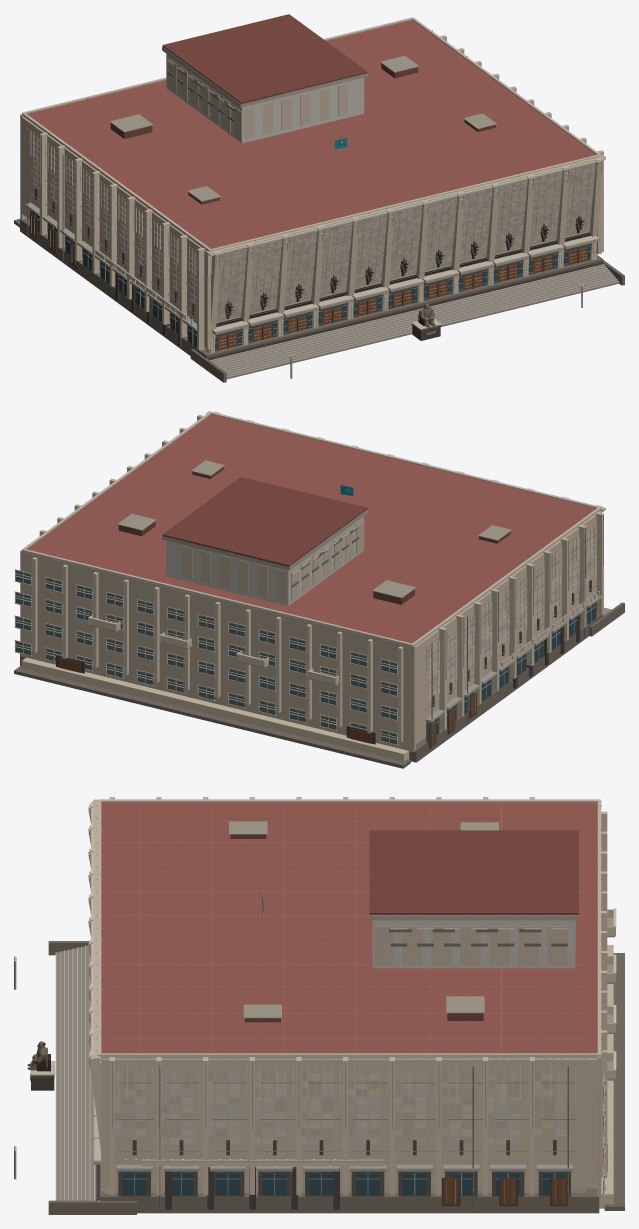
File: auezov_theatre.glb
3 renders of one model, top to bottom at view 1: azimuth 30°, elevation 25°; view 2: azimuth 150°, elevation 25°; view 3: azimuth 270°, elevation 25°, orthographic. The views are drawn at different scales.
Visible parts, largest first — view 1: Auezov_roof, Auezov_marble, Auezov_pale, Auezov_stone_warm, Auezov_roof_shade, Auezov_stone_mid, Auezov_step, Auezov_limestone, Auezov_stone_cool, Auezov_detail_stonehighlight, Auezov_stone_dark, Auezov_marble_dark (+21 smaller); view 2: Auezov_roof, Auezov_limestone, Auezov_marble, Auezov_roof_shade, Auezov_window, Auezov_pale, Auezov_stone_dark, Auezov_stone_warm, Auezov_stone_cool, Auezov_marble_dark, Auezov_detail_stonehighlight, Auezov_roof_grid (+12 smaller); view 3: Auezov_roof, Auezov_stone_warm, Auezov_marble, Auezov_roof_shade, Auezov_stone_dark, Auezov_pale, Auezov_limestone, Auezov_stone_cool, Auezov_step, Auezov_marble_dark, Auezov_detail_stonehighlight, Auezov_roof_grid (+15 smaller).
Part boxes in pixels (bbox=[...]): Auezov_roof: bbox=[27, 20, 596, 248]; Auezov_marble: bbox=[33, 35, 605, 357]; Auezov_pale: bbox=[21, 17, 601, 358]; Auezov_stone_warm: bbox=[21, 117, 601, 349]; Auezov_roof_shade: bbox=[89, 14, 367, 250]; Auezov_stone_mid: bbox=[33, 136, 595, 321]; Auezov_step: bbox=[210, 263, 619, 379]; Auezov_limestone: bbox=[20, 59, 599, 348]; Auezov_stone_cool: bbox=[33, 54, 595, 319]; Auezov_detail_stonehighlight: bbox=[27, 128, 618, 376]; Auezov_stone_dark: bbox=[14, 69, 624, 382]; Auezov_marble_dark: bbox=[95, 46, 601, 378]; Auezov_roof: bbox=[27, 414, 596, 643]; Auezov_limestone: bbox=[20, 519, 596, 752]; Auezov_marble: bbox=[21, 411, 605, 761]; Auezov_roof_shade: bbox=[162, 477, 367, 566]; Auezov_window: bbox=[15, 571, 398, 744]; Auezov_pale: bbox=[14, 412, 601, 745]; Auezov_stone_dark: bbox=[14, 527, 624, 768]; Auezov_stone_warm: bbox=[415, 511, 601, 743]; Auezov_stone_cool: bbox=[166, 516, 596, 688]; Auezov_marble_dark: bbox=[14, 460, 593, 734]; Auezov_detail_stonehighlight: bbox=[15, 521, 611, 745]; Auezov_roof_grid: bbox=[53, 423, 579, 635]; Auezov_roof: bbox=[101, 802, 597, 1053]; Auezov_stone_warm: bbox=[101, 1058, 598, 1188]; Auezov_marble: bbox=[14, 797, 615, 1208]; Auezov_roof_shade: bbox=[101, 830, 596, 1058]; Auezov_stone_dark: bbox=[48, 929, 624, 1214]; Auezov_pale: bbox=[15, 799, 604, 1196]; Auezov_limestone: bbox=[115, 803, 601, 1198]; Auezov_stone_cool: bbox=[115, 920, 575, 1144]; Auezov_step: bbox=[56, 945, 99, 1200]; Auezov_marble_dark: bbox=[14, 821, 615, 1181]; Auezov_detail_stonehighlight: bbox=[55, 807, 605, 1200]; Auezov_roof_grid: bbox=[111, 804, 587, 1051].
Bounding box in the file's own units: 87.04 × 32.4 × 84.43.
Materials: 44 (13 with a texture image).
